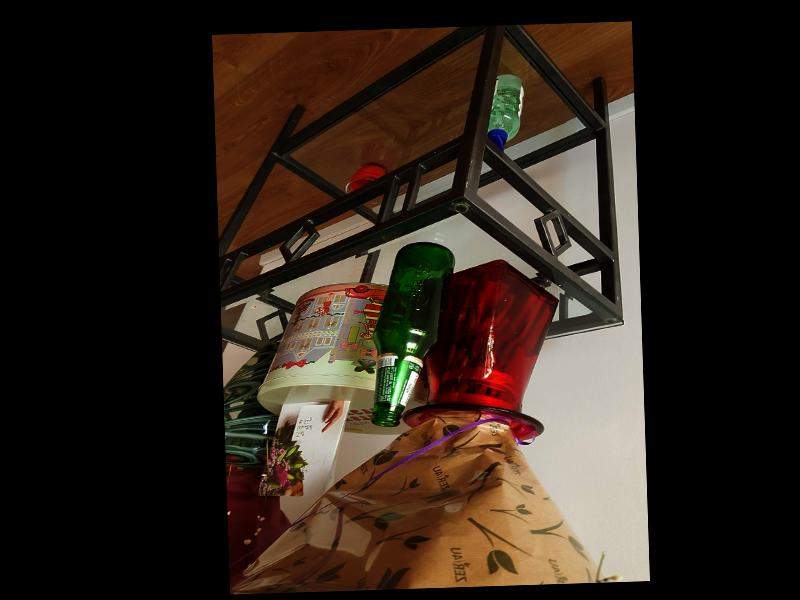Beer: (367, 240, 459, 428)
